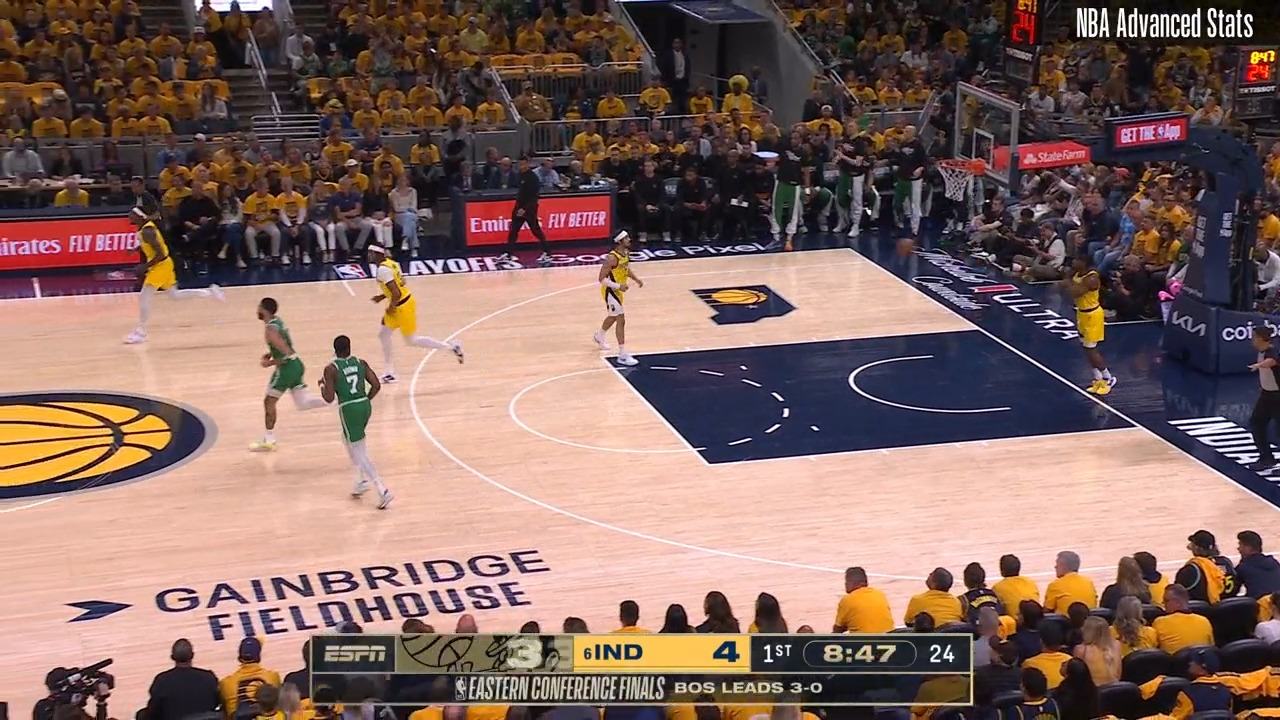basketball: (893, 235, 920, 262)
